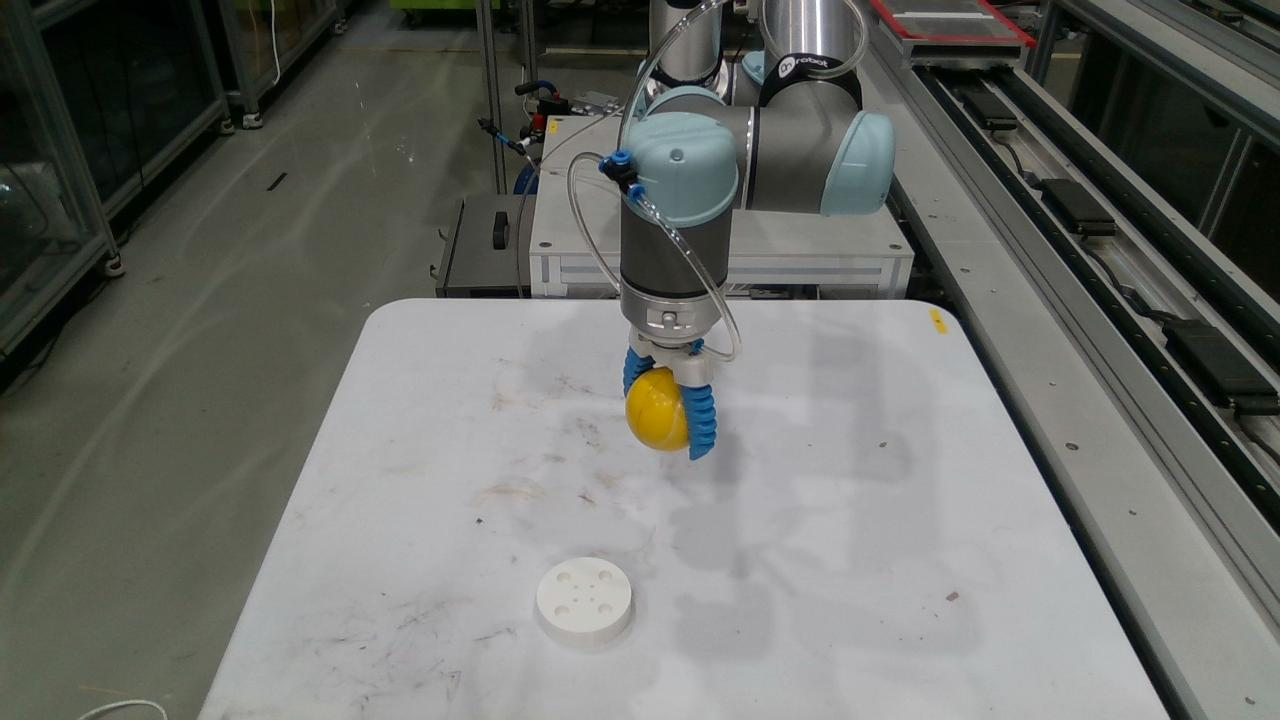UR5: (614, 0, 894, 390)
gripper_left: (622, 348, 654, 396)
gripper_right: (681, 385, 716, 460)
target: (534, 556, 634, 648), (625, 367, 689, 451)
